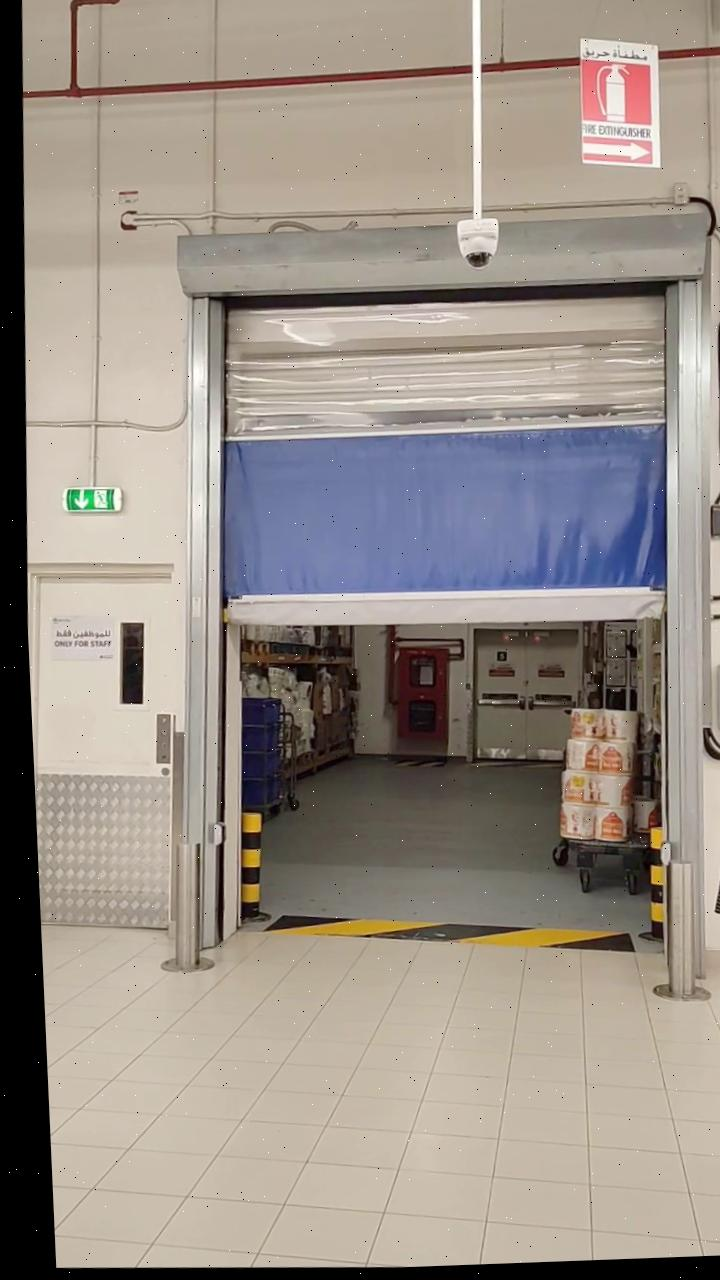Strip: (259, 894, 631, 967)
